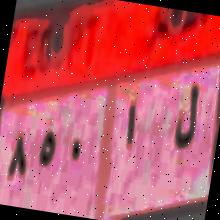0: (62, 128, 88, 170)
5: (32, 126, 60, 176)
8: (2, 128, 33, 186)
alif: (118, 96, 142, 156)
laam: (170, 76, 204, 160)
